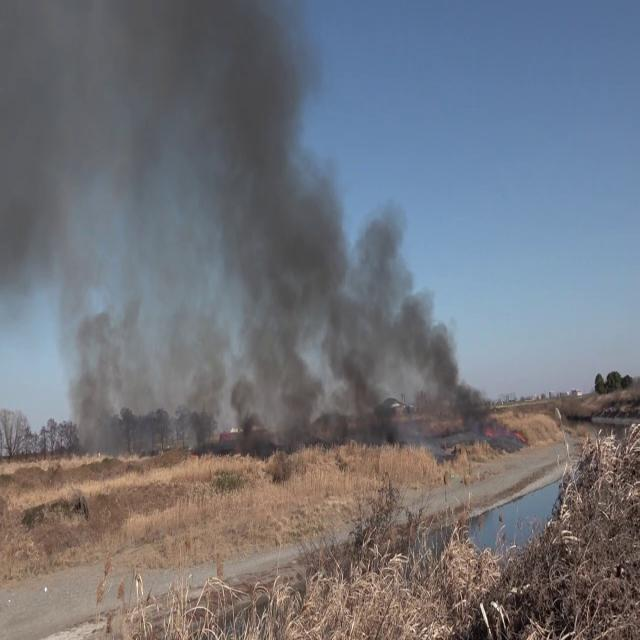Smoke: (158, 3, 482, 436), (0, 0, 198, 444), (291, 204, 487, 431)
